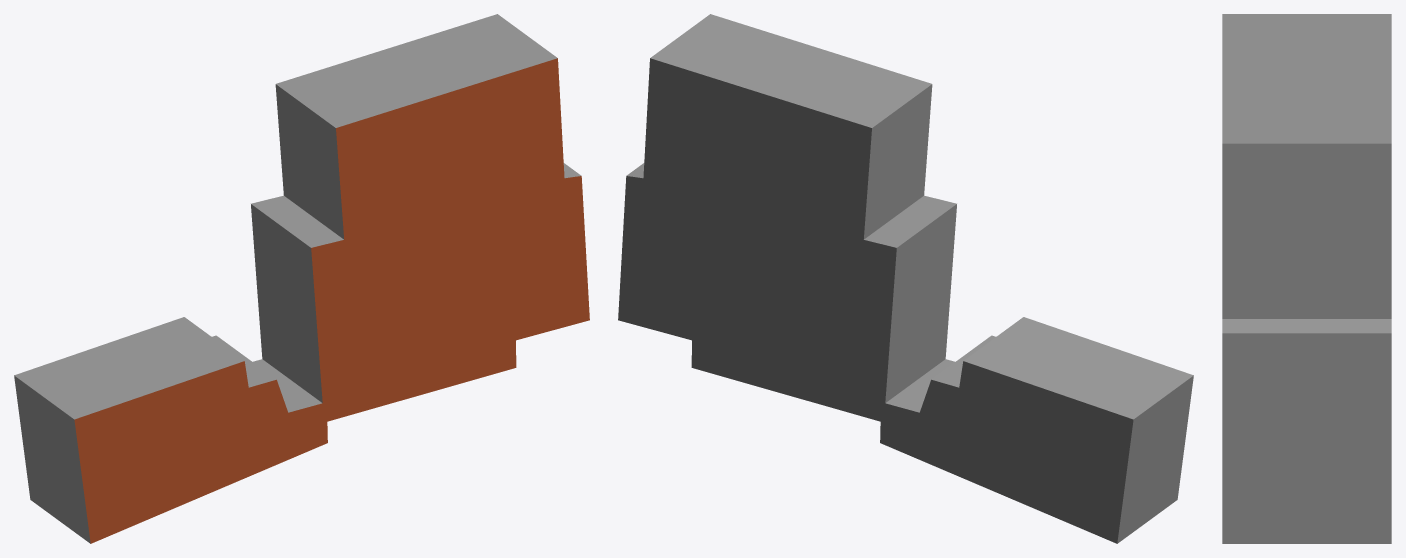
File: construction_3565_assumed_A_Casa_h6m.obj
3 renders of one model, left to right at view 1: azimuth 30°, elevation 25°; view 2: azimuth 150°, elevation 25°; view 3: azimuth 270°, elevation 25°, orthographic. The views are drawn at different scales.
Visible parts, largest first — view 1: construction_3565_assumed_A_Casa; view 2: construction_3565_assumed_A_Casa; view 3: construction_3565_assumed_A_Casa.
Boxes of the visible parts, <box> form: construction_3565_assumed_A_Casa: <box>14,14,589,543</box>; construction_3565_assumed_A_Casa: <box>618,14,1193,543</box>; construction_3565_assumed_A_Casa: <box>1222,14,1391,543</box>.
Bounding box in the file's own units: 29.59 × 20.39 × 6.
